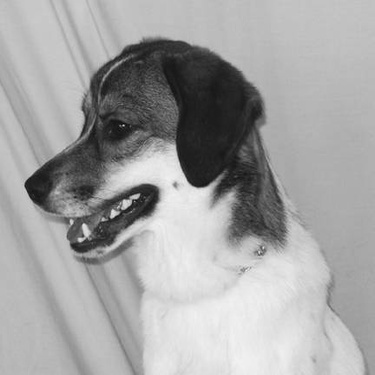dog: (15, 27, 370, 372)
